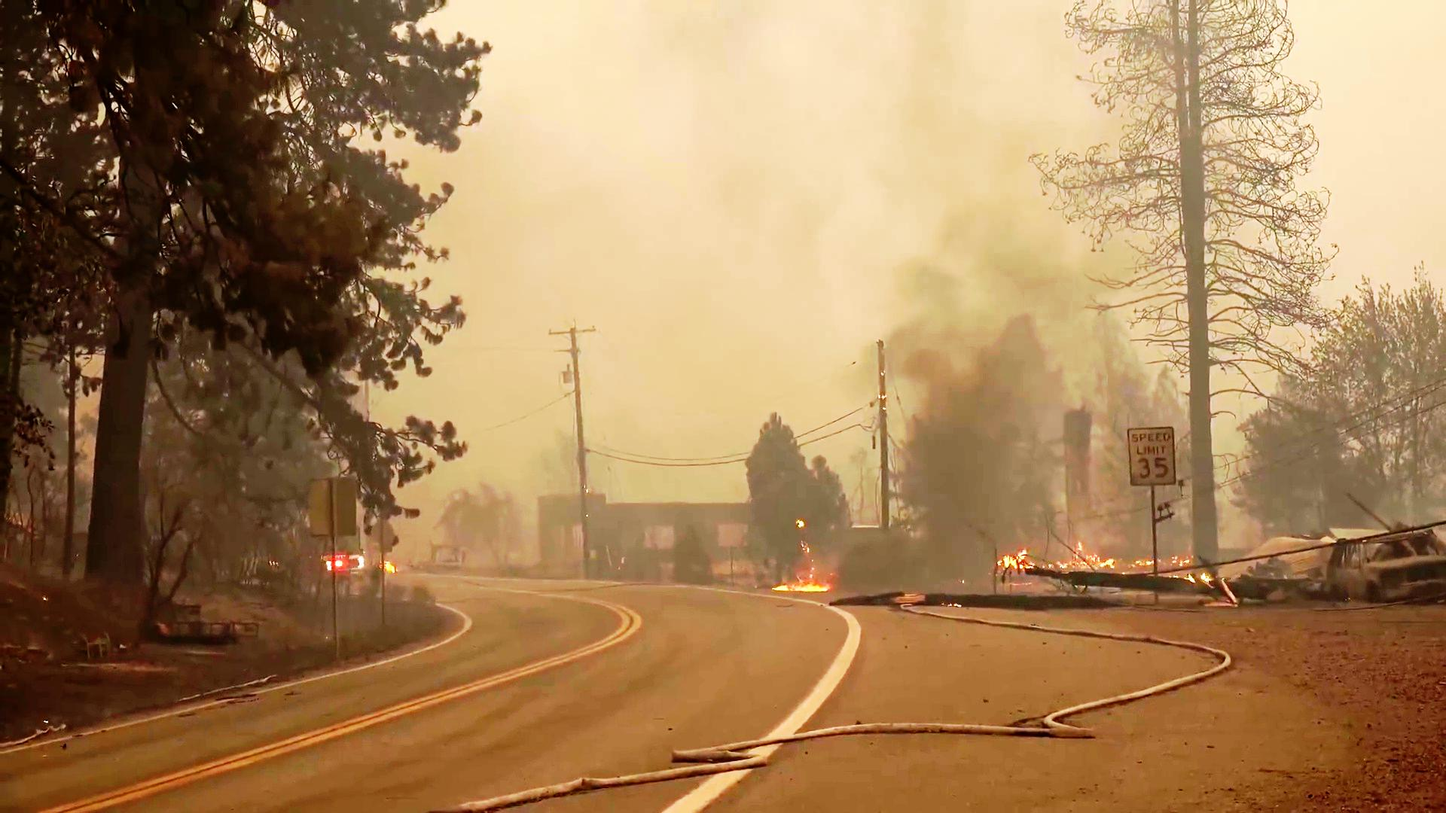smoke: (846, 45, 1111, 371), (863, 113, 1109, 394)
